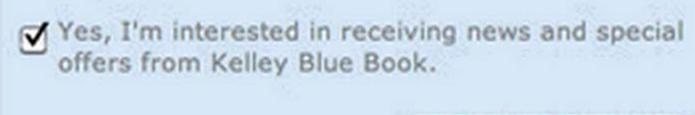checkbox: (21, 22, 58, 54)
field_with_label: (15, 18, 685, 62)
